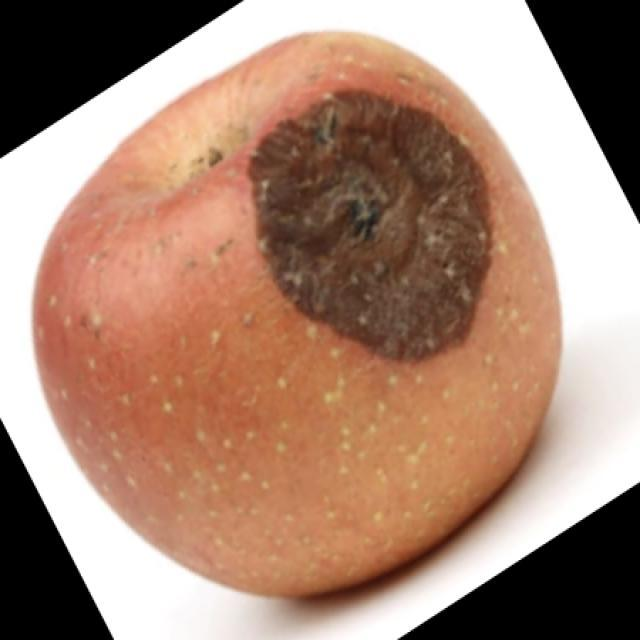Rotten: (60, 43, 575, 585)
